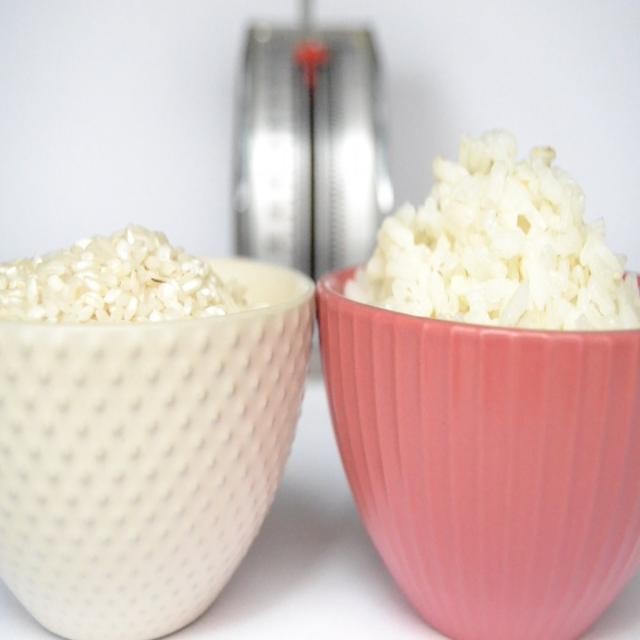arroz: (344, 120, 640, 364)
